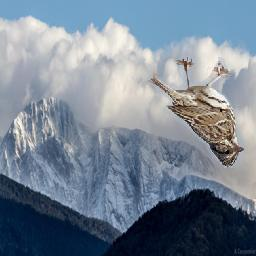Sparrow: (148, 54, 244, 168)
